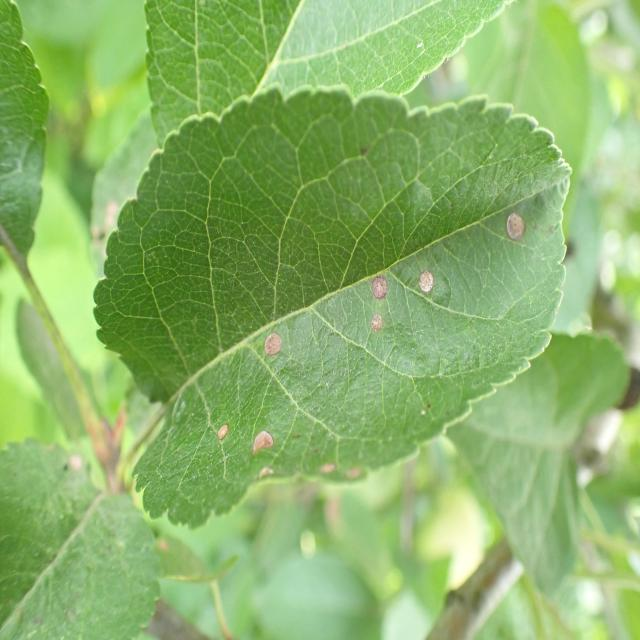Black Rot: (242, 312, 298, 388), (313, 442, 366, 496), (244, 409, 288, 469), (414, 234, 442, 325), (357, 243, 394, 306), (502, 188, 535, 252), (207, 412, 232, 457), (365, 309, 392, 338)
